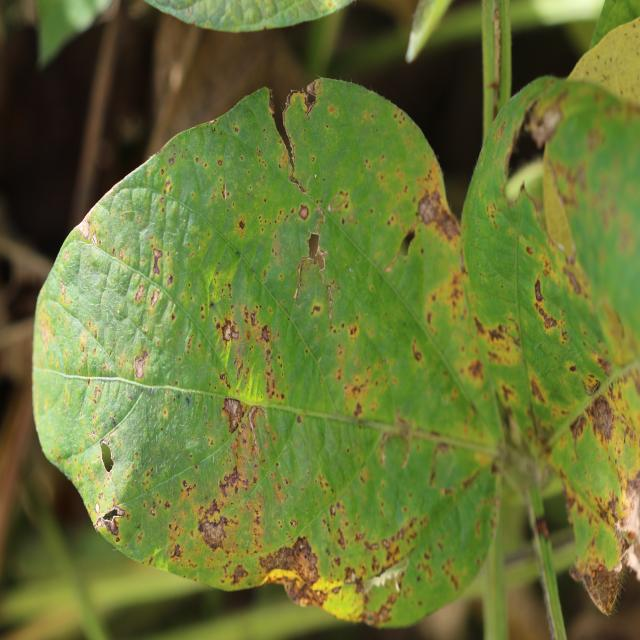Bacterial_Blight: (265, 544, 373, 623), (493, 411, 551, 504), (281, 82, 319, 188), (526, 184, 570, 263), (258, 537, 321, 589), (371, 510, 421, 566), (345, 354, 390, 414), (223, 395, 268, 450), (582, 561, 626, 617), (597, 297, 633, 359), (472, 313, 518, 353), (585, 395, 619, 447), (533, 276, 561, 335), (377, 422, 409, 473), (528, 102, 563, 148), (299, 227, 334, 266), (418, 189, 449, 226), (93, 502, 125, 536), (199, 517, 231, 551), (491, 5, 503, 92), (385, 235, 413, 272), (618, 538, 639, 586), (430, 441, 453, 484), (606, 489, 629, 526), (570, 414, 588, 459), (563, 266, 584, 297), (220, 465, 244, 492), (265, 371, 283, 401), (303, 81, 318, 115), (100, 440, 115, 473), (327, 192, 349, 212), (221, 319, 239, 343), (134, 348, 148, 378), (325, 282, 335, 324), (581, 373, 601, 394), (467, 358, 484, 381), (75, 217, 91, 241), (230, 563, 248, 584), (151, 248, 163, 276), (402, 228, 416, 249), (534, 278, 545, 302), (412, 339, 423, 362), (343, 566, 357, 584), (259, 324, 271, 343), (170, 543, 183, 560), (134, 284, 145, 304), (150, 289, 160, 310), (92, 384, 102, 402), (221, 183, 231, 200), (353, 401, 363, 418), (60, 279, 67, 303), (91, 232, 98, 247), (329, 504, 336, 518), (94, 502, 101, 515), (312, 305, 321, 315), (167, 274, 173, 286), (591, 568, 597, 580), (238, 220, 245, 230), (290, 519, 297, 528), (168, 156, 175, 165), (182, 479, 188, 488), (217, 159, 223, 166)
Soybean: (33, 78, 640, 626)
